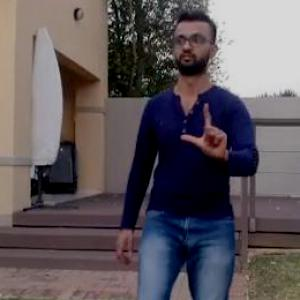land_hand: (178, 96, 235, 166)
